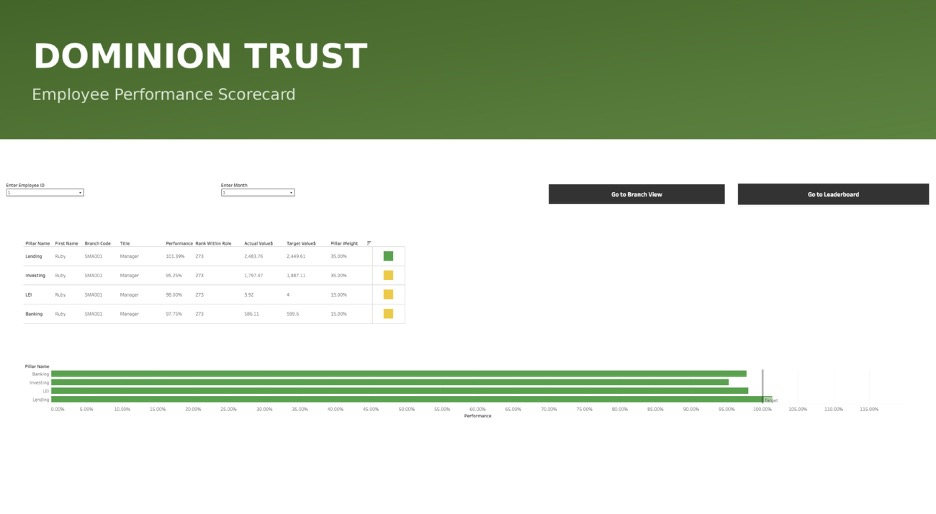

This screenshot's page, from the dashboard's own definition file:
{"tool":"tableau","page":{"name":"FInal My Scorecard ","canvas":[1000,1000],"units":"permille","ordinal":1},"visuals":[{"type":"image","param":"/Users/saran/Downloads/dominion_trust_employee_performance_scorecard_banner.png","box":[3.1,5.7,993.7,988.7]},{"type":"parameter","param":"[Parameters].[Parameter 3623807528333328]","box":[205.2,308.2,116,38.6]},{"type":"parameter","param":"[Parameters].[Parameter 3623807549329428]","box":[400.4,310.7,98.7,36.1]},{"type":"dashboard-object","box":[540.1,310.7,88.4,37.8]},{"type":"dashboard-object","box":[655.6,311.6,91,38.6]},{"type":"parameter","param":"[Parameters].[Parameter 3623807499624452]","box":[32.8,317.6,130.6,32.6]},{"type":"worksheet","title":"mployee - Pillar Table","mark":"Automatic","rows":["pillar_name","branch_code","rank_within_role","rank_within_branch","pct_to_target","branch_id","employee_id","Calculation_3623807514517515","role (fact_targets)","Calculation_3623807517364236","Calculation_3623807520337935"],"box":[33.2,368.6,941.8,297.5]},{"type":"worksheet","title":"Pillars breakdown","mark":"Bar","rows":["pillar_name"],"cols":["pct_to_target"],"box":[30.6,645.3,933.2,255]}]}

Visuals, with their boxes on the dashboard's canvas, which has no fixed pixel size, in thousandths of its width and height (x1, y1, x2, y2). These are canvas units, not pixel positions in the 936x514 screenshot, which may show the page scaled, cropped or inside an application window:
image: [3, 6, 997, 994]
parameter: [205, 308, 321, 347]
parameter: [400, 311, 499, 347]
dashboard-object: [540, 311, 628, 348]
dashboard-object: [656, 312, 747, 350]
parameter: [33, 318, 163, 350]
"mployee - Pillar Table" worksheet: [33, 369, 975, 666]
"Pillars breakdown" worksheet (Bar marks): [31, 645, 964, 900]
